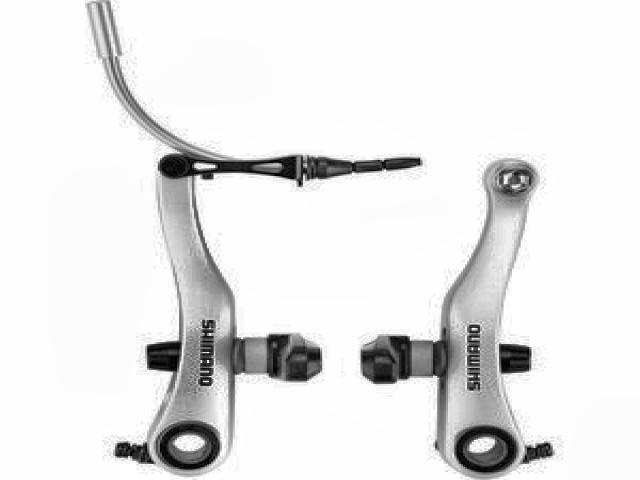rim_brake: (117, 151, 541, 480)
